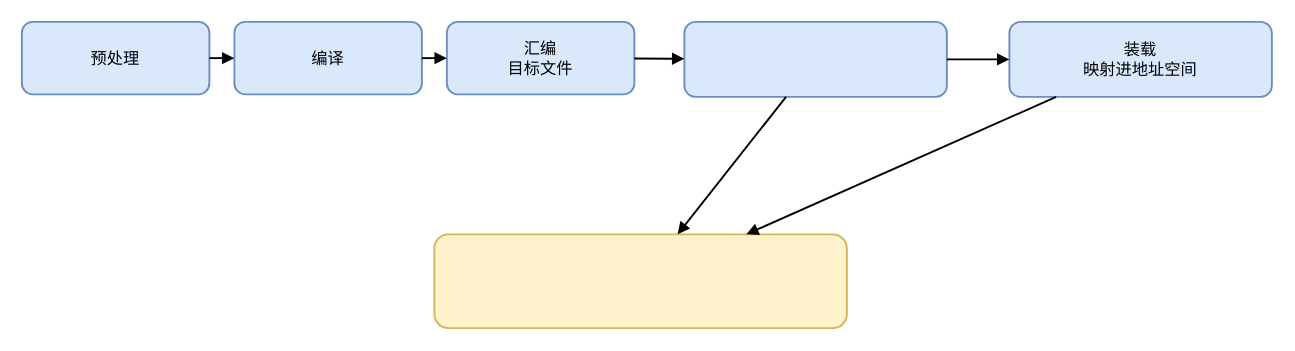
Some shapes in this 1295 by 351 pixel diagram are drawn without their labels. Here are the shapes that lost their labels. From the top down, the centre of each, then its label:
[815,58]: 链接 符号解析/重定位
[640,280]: text / data / bss 动态库 / 运行时栈堆
